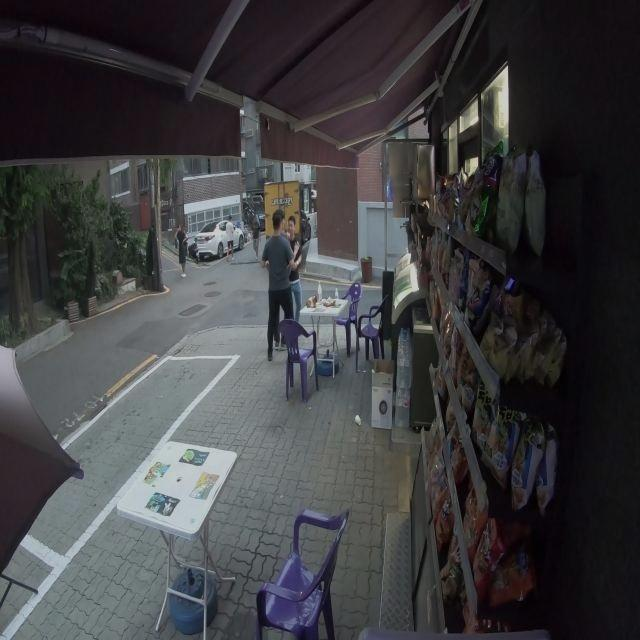fight: (263, 208, 311, 361)
non-fight: (172, 222, 192, 276), (248, 215, 262, 260)
